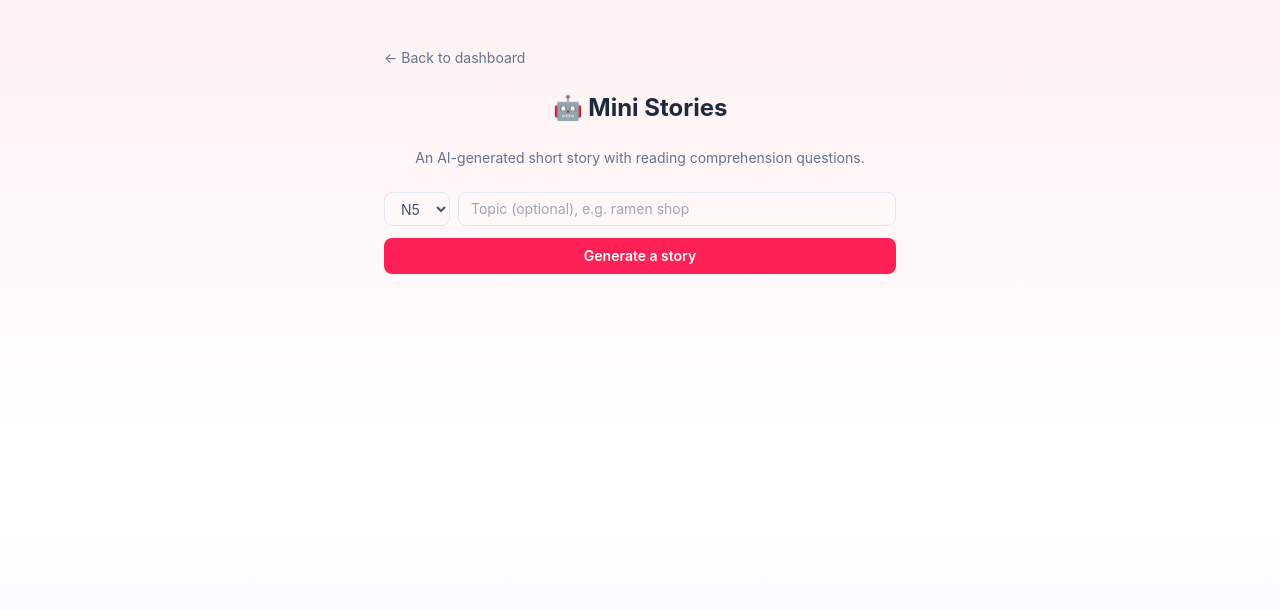
it: MiniStoriesPage › shows an error message when generation fails
Click the button "Generate a story" at (640, 256), box x1=384 y1=238 x2=896 y2=274
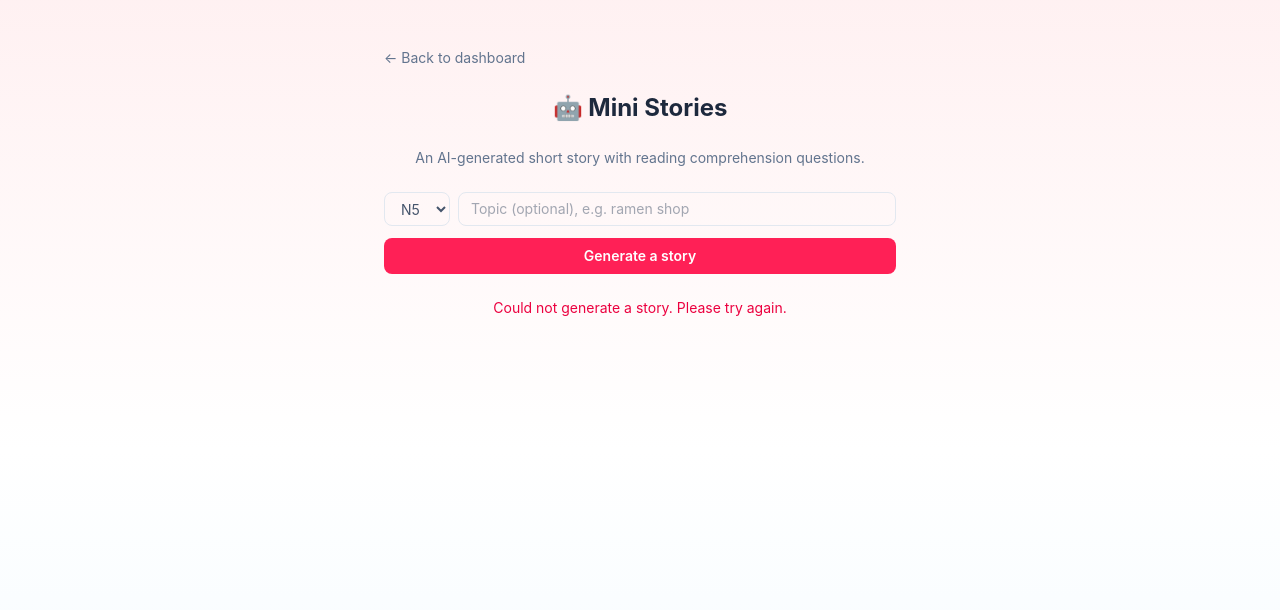
Now the text "Could not generate a story. Please try again." is shown, box x1=493 y1=298 x2=787 y2=318
